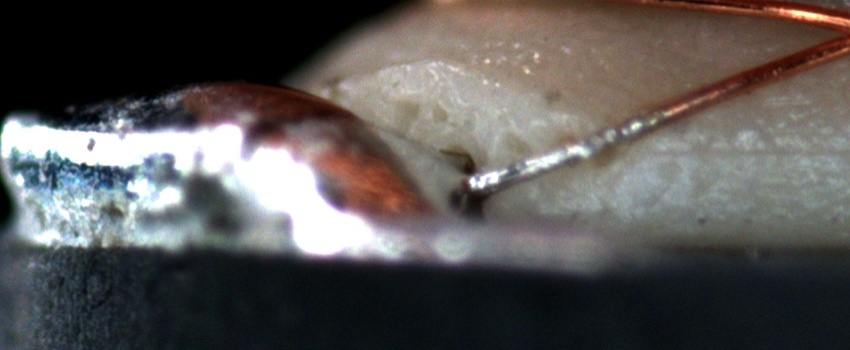DL: (613, 118, 850, 182)
TS: (469, 104, 666, 197)
